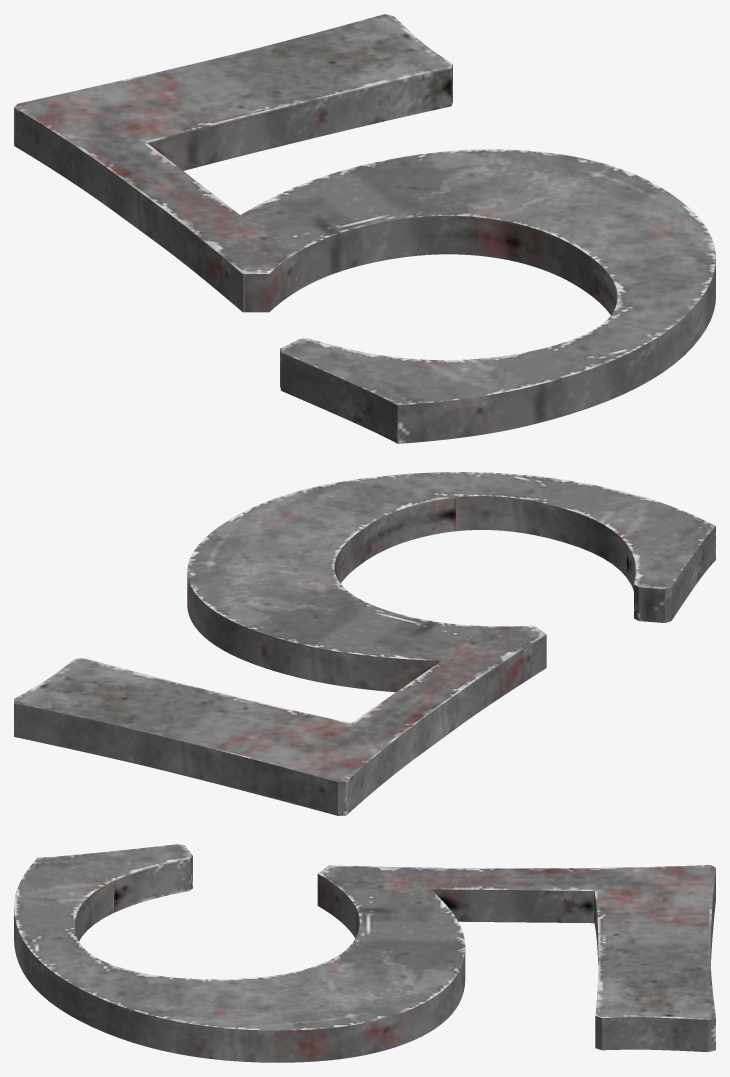
The model's file is counter_num_5.fbx.
The picture shows the model from 3 angles, top to bottom: view 1: azimuth 30°, elevation 25°; view 2: azimuth 150°, elevation 25°; view 3: azimuth 270°, elevation 25°; orthographic projection. The views are drawn at different scales.
Visible parts, largest first — view 1: 5; view 2: 5; view 3: 5.
Part boxes in pixels (<box>): 5: <box>14,14,715,443</box>; 5: <box>14,472,715,815</box>; 5: <box>14,844,715,1062</box>.
Bounding box in the file's own units: 12.62 × 1.02 × 20.1.
